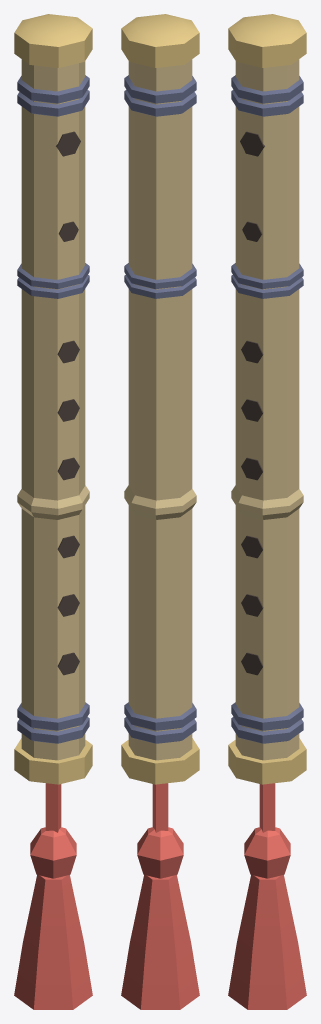
The model's file is Dizi.fbx.
3 renders of one model, left to right at view 1: azimuth 30°, elevation 25°; view 2: azimuth 150°, elevation 25°; view 3: azimuth 330°, elevation 25°, orthographic.
Parts seen in each view (by area): view 1: DiziBody, DiziTassel, DiziFittings, DiziBinding, DiziHoles; view 2: DiziBody, DiziTassel, DiziFittings, DiziBinding; view 3: DiziBody, DiziTassel, DiziFittings, DiziBinding, DiziHoles.
Part boxes in pixels (x1,y1,x2,y2): DiziBody: [17, 59, 89, 760]; DiziTassel: [14, 783, 92, 1009]; DiziFittings: [14, 14, 92, 784]; DiziBinding: [17, 75, 89, 743]; DiziHoles: [56, 131, 80, 675]; DiziBody: [124, 59, 196, 760]; DiziTassel: [121, 783, 199, 1009]; DiziFittings: [121, 14, 199, 784]; DiziBinding: [124, 75, 196, 743]; DiziBody: [231, 59, 303, 760]; DiziTassel: [228, 783, 306, 1009]; DiziFittings: [228, 14, 306, 784]; DiziBinding: [231, 75, 303, 743]; DiziHoles: [240, 131, 264, 675].
Size of the model in its own units: 0.2033 by 2.99 by 0.22.
